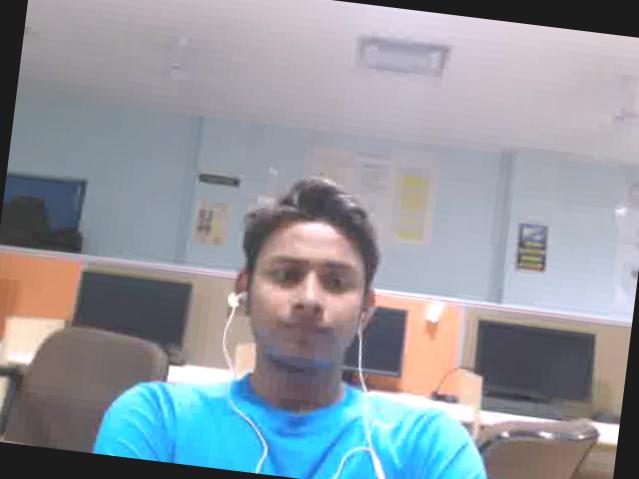bingung: (238, 214, 367, 368)
